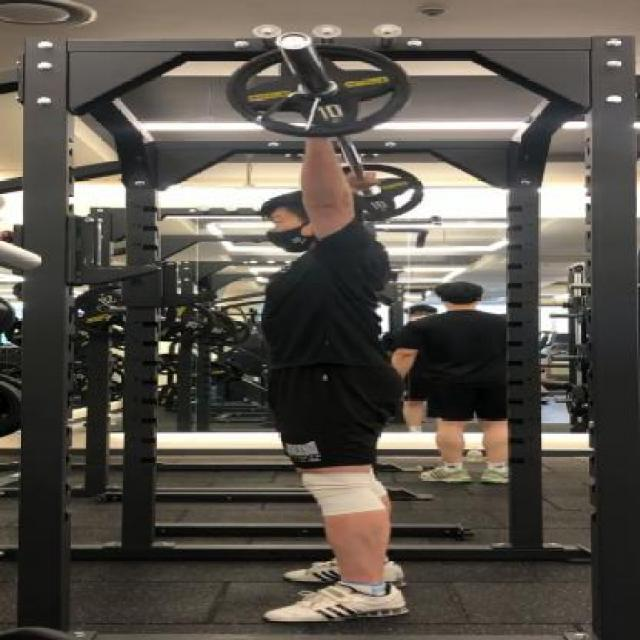Barbell: (268, 31, 318, 52)
